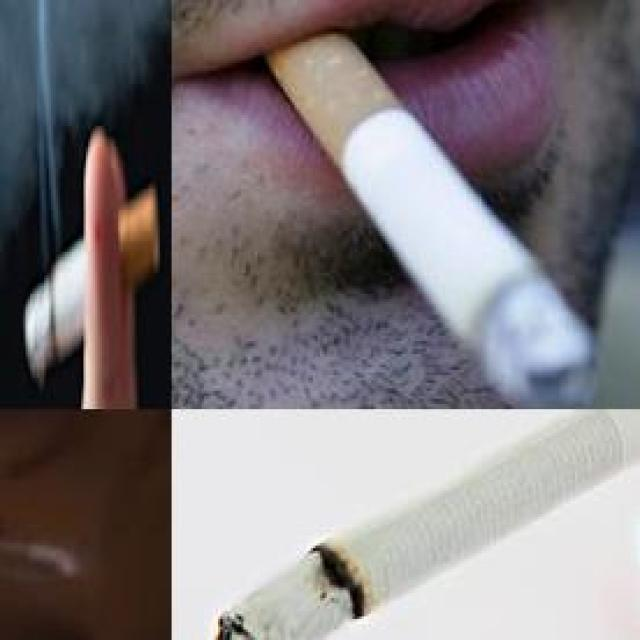smoking: (248, 0, 601, 407), (213, 410, 638, 638), (22, 182, 161, 387)
